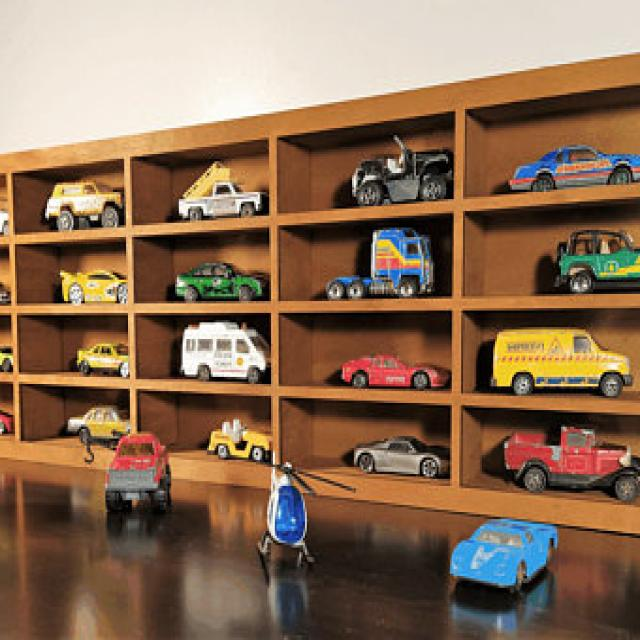Car: (508, 142, 640, 192), (341, 351, 452, 389), (354, 434, 452, 476), (175, 261, 269, 301), (77, 341, 130, 377)
